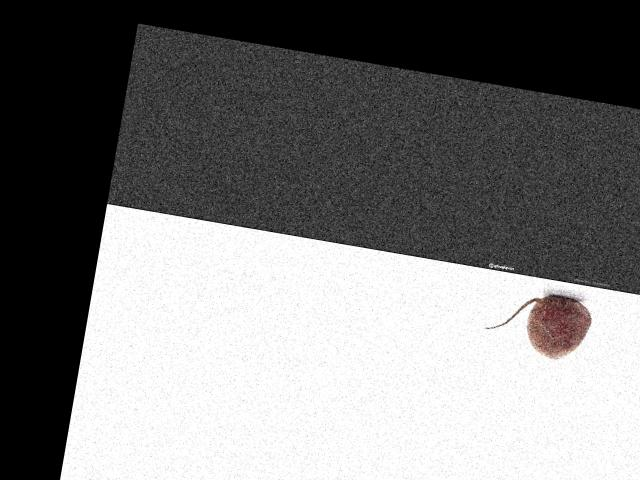beet: (482, 284, 595, 363)
